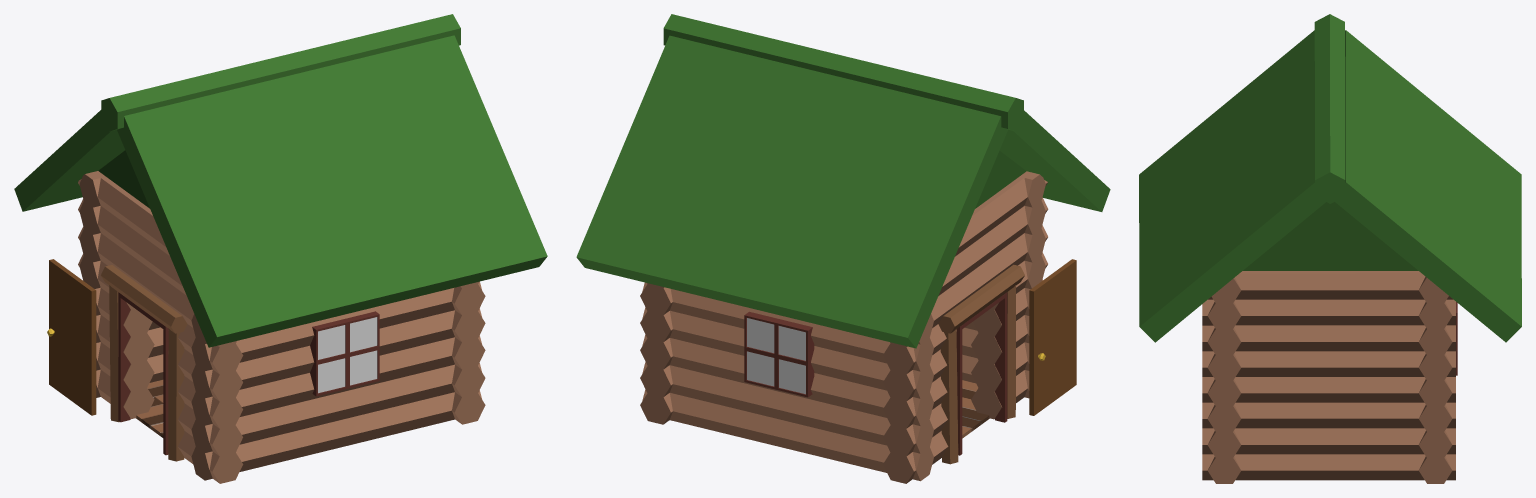
Rendered from LOG_CABIN.fbx.
3 renders of one model, left to right at view 1: azimuth 30°, elevation 25°; view 2: azimuth 150°, elevation 25°; view 3: azimuth 270°, elevation 25°, orthographic. The views are drawn at different scales.
Parts seen in each view (by area): view 1: Roof Right, Wall Right, Wall Front, Roof Peak, Door, Roof Left, Window Right_out, Front Wall, Wall Left, Door Frame, Log, Log.002 (+3 smaller); view 2: Roof Left, Wall Left, Wall Front, Roof Peak, Door, Window Left_out, Roof Right, Front Wall, Wall Right, Door Frame, Log.001, Log (+3 smaller); view 3: Front Wall, Roof Left, Roof Right, Roof Back, Roof Peak, Wall Left, Wall Right.
Part boxes in pixels (x1=…): Roof Right: x1=117, y1=35, x2=547, y2=347; Wall Right: x1=191, y1=281, x2=482, y2=480; Wall Front: x1=78, y1=171, x2=243, y2=483; Roof Peak: x1=101, y1=14, x2=460, y2=131; Door: x1=47, y1=259, x2=96, y2=415; Roof Left: x1=14, y1=110, x2=124, y2=211; Window Right_out: x1=310, y1=311, x2=379, y2=396; Front Wall: x1=452, y1=282, x2=485, y2=424; Wall Left: x1=79, y1=171, x2=163, y2=397; Door Frame: x1=118, y1=292, x2=168, y2=455; Log: x1=101, y1=265, x2=187, y2=333; Log.002: x1=168, y1=328, x2=184, y2=461; Roof Left: x1=576, y1=35, x2=1007, y2=348; Wall Left: x1=642, y1=282, x2=933, y2=481; Wall Front: x1=883, y1=171, x2=1048, y2=483; Roof Peak: x1=663, y1=14, x2=1023, y2=131; Door: x1=1029, y1=259, x2=1076, y2=415; Window Left_out: x1=744, y1=311, x2=814, y2=397; Roof Right: x1=999, y1=110, x2=1110, y2=211; Front Wall: x1=640, y1=283, x2=672, y2=424; Wall Right: x1=962, y1=172, x2=1045, y2=398; Door Frame: x1=956, y1=292, x2=1007, y2=455; Log.001: x1=940, y1=329, x2=958, y2=464; Log: x1=938, y1=264, x2=1024, y2=333; Front Wall: x1=1202, y1=271, x2=1455, y2=480; Roof Left: x1=1335, y1=30, x2=1521, y2=342; Roof Right: x1=1139, y1=30, x2=1325, y2=342; Roof Back: x1=1243, y1=202, x2=1418, y2=270; Roof Peak: x1=1314, y1=14, x2=1345, y2=203; Wall Left: x1=1418, y1=276, x2=1452, y2=483; Wall Right: x1=1207, y1=277, x2=1241, y2=483.
Bounding box in the file's own units: 947 × 817 × 857.
